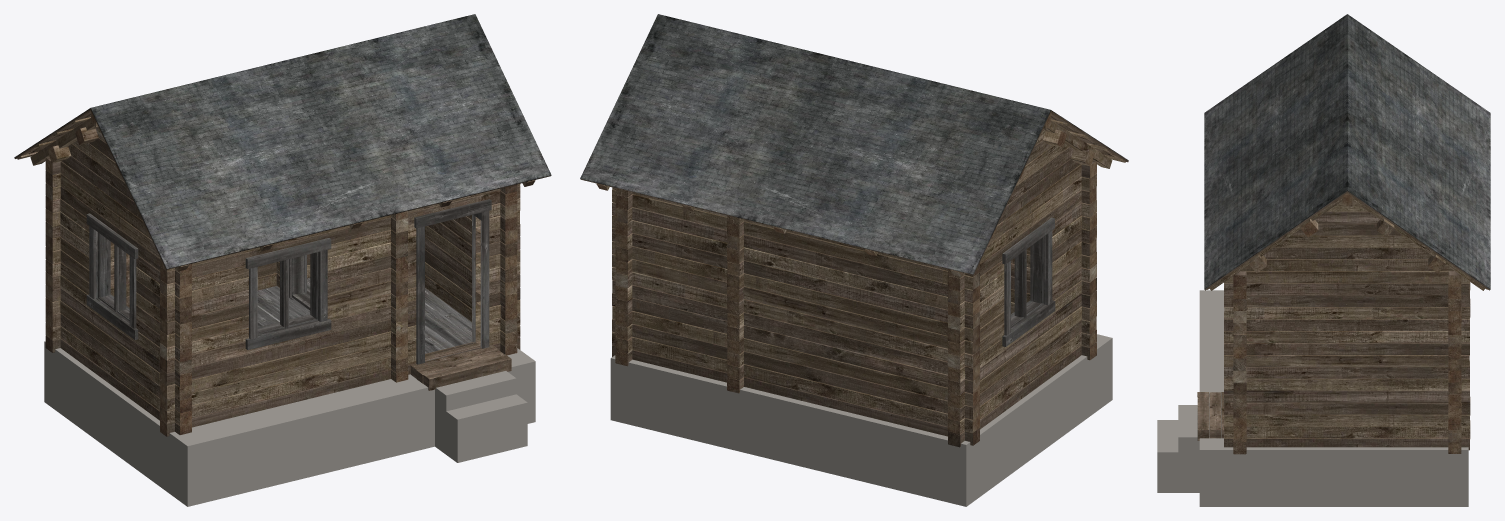
File: log-cabin.panes-v1.lod0.glb
The picture shows the model from 3 angles, left to right: view 1: azimuth 30°, elevation 25°; view 2: azimuth 150°, elevation 25°; view 3: azimuth 270°, elevation 25°; orthographic projection. The views are drawn at different scales.
Visible parts, largest first — view 1: Base_Roof_0, Walkable floors and stairs, Base_Wood1a_0, Base_Wood1b_0, Base_Wood2_0, Base_WoodEnds_0; view 2: Base_Roof_0, Base_Wood1a_0, Base_Wood1b_0, Walkable floors and stairs, Base_WoodEnds_0, Base_Wood2_0; view 3: Base_Roof_0, Base_Wood1b_0, Base_Wood1a_0, Walkable floors and stairs, Base_WoodEnds_0.
Part boxes in pixels (<box>): Base_Roof_0: <box>14,14,551,268</box>; Walkable floors and stairs: <box>44,341,535,506</box>; Base_Wood1a_0: <box>17,117,535,425</box>; Base_Wood1b_0: <box>14,108,550,436</box>; Base_Wood2_0: <box>86,199,491,364</box>; Base_WoodEnds_0: <box>45,111,534,436</box>; Base_Roof_0: <box>580,14,1128,274</box>; Base_Wood1a_0: <box>597,119,1125,433</box>; Base_Wood1b_0: <box>580,110,1128,446</box>; Walkable floors and stairs: <box>610,334,1112,506</box>; Base_WoodEnds_0: <box>596,113,1096,447</box>; Base_Wood2_0: <box>1002,217,1055,346</box>; Base_Roof_0: <box>1204,14,1490,289</box>; Base_Wood1b_0: <box>1197,191,1489,450</box>; Base_Wood1a_0: <box>1207,196,1487,441</box>; Walkable floors and stairs: <box>1157,290,1468,506</box>; Base_WoodEnds_0: <box>1233,192,1461,454</box>.
Bounding box in the file's own units: 6.3 × 5.41 × 5.03.
6 materials, 5 textured.
